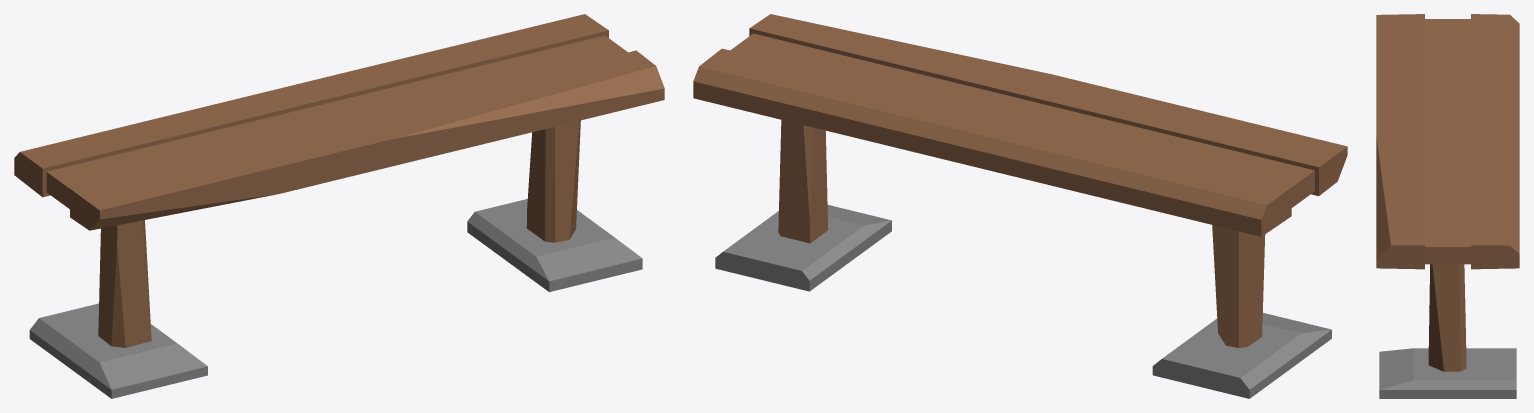
File: bench.fbx
The picture shows the model from 3 angles, left to right: view 1: azimuth 30°, elevation 25°; view 2: azimuth 150°, elevation 25°; view 3: azimuth 270°, elevation 25°; orthographic projection. The views are drawn at different scales.
Parts seen in each view (by area): view 1: bench_LOD0; view 2: bench_LOD0; view 3: bench_LOD0.
Boxes of the visible parts, bbox=[...] form: bench_LOD0: bbox=[14, 14, 664, 398]; bench_LOD0: bbox=[693, 14, 1347, 398]; bench_LOD0: bbox=[1376, 14, 1519, 398].
Size of what is drawn, in the model's own units: 295 by 96.49 by 77.26.
